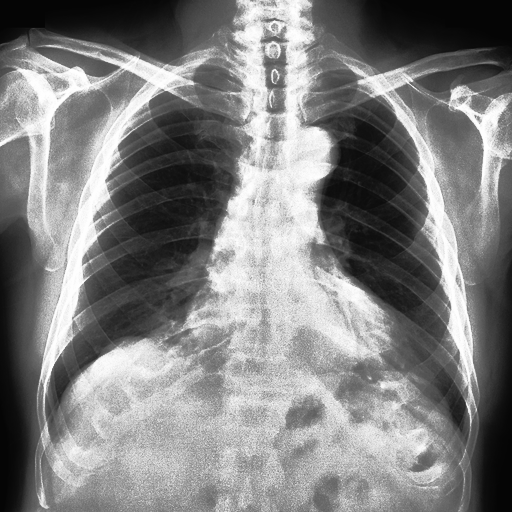Consolidation: (273, 122, 339, 182)
Nodule/Mass: (188, 287, 408, 369)
Other lesion: (98, 323, 154, 367)
